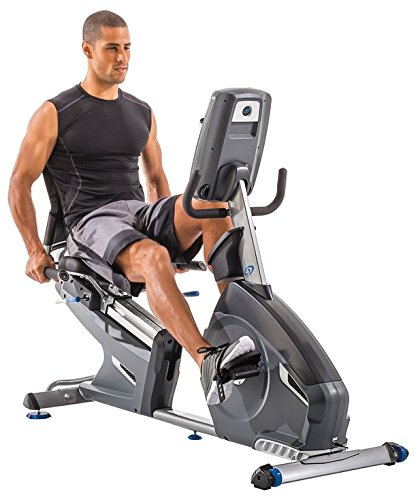gym_bike: (24, 83, 409, 494)
